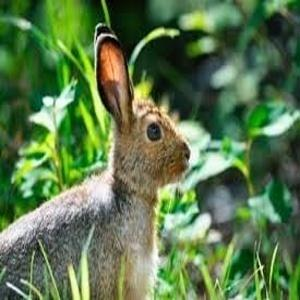rabbit: (0, 21, 191, 300)
